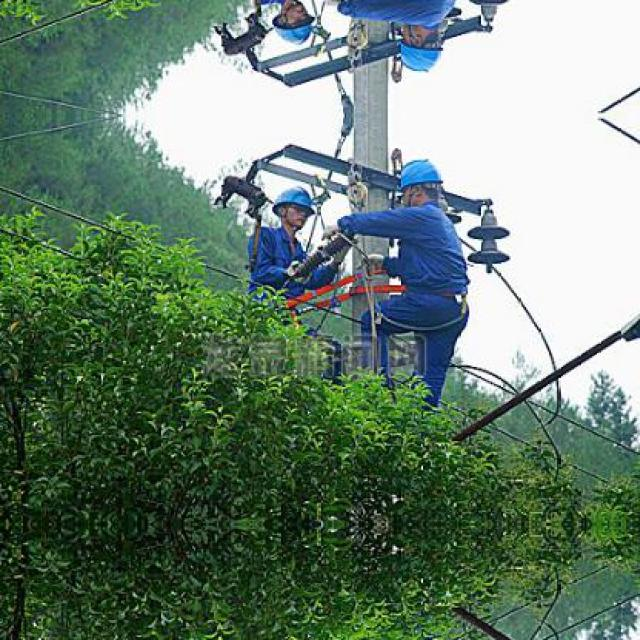helmet: (392, 154, 448, 211), (392, 19, 448, 76), (269, 182, 316, 230), (269, 1, 316, 48)
